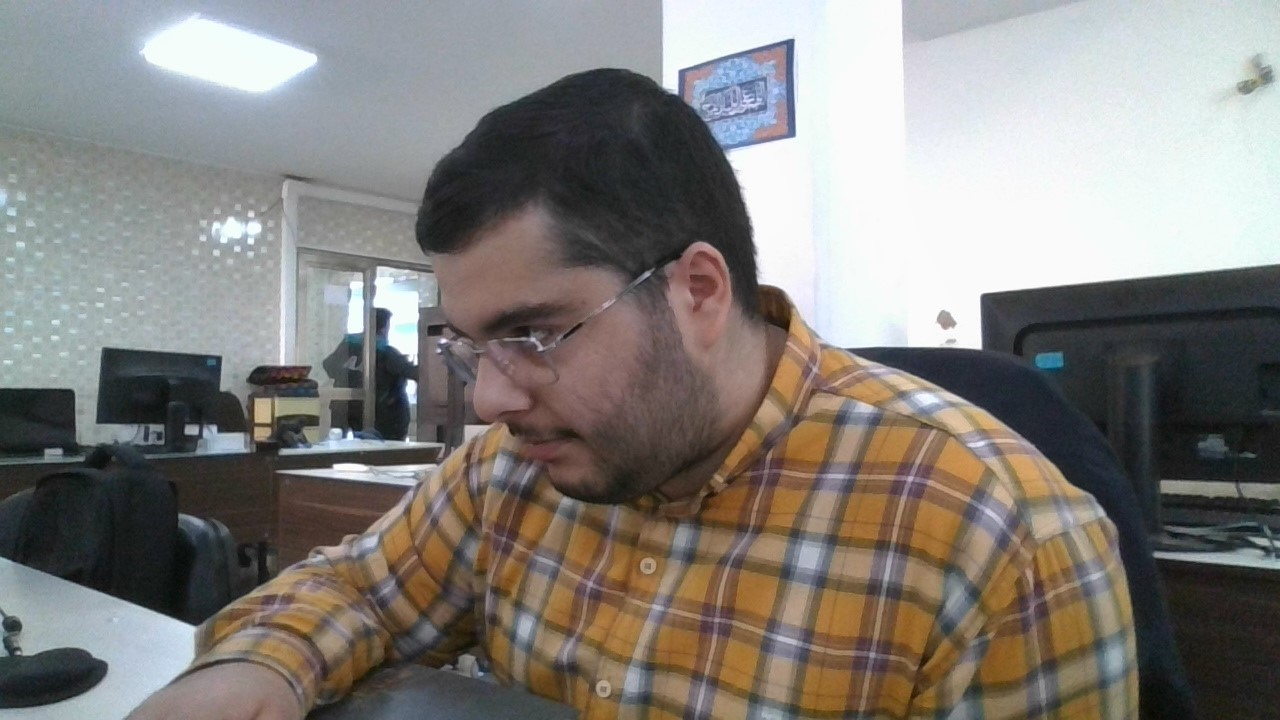NoMask: (471, 372, 733, 509)
